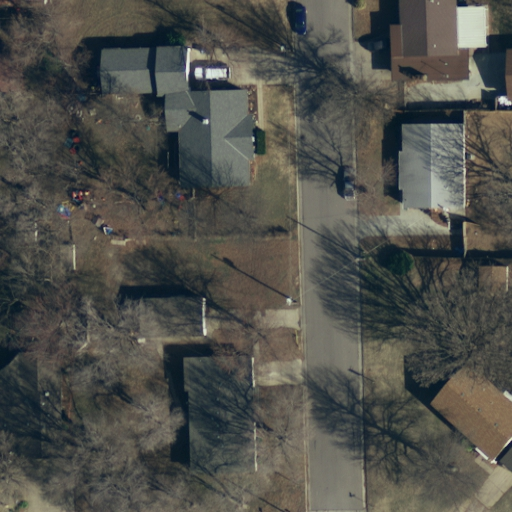DT: (349, 249, 368, 267), (282, 293, 302, 309)
